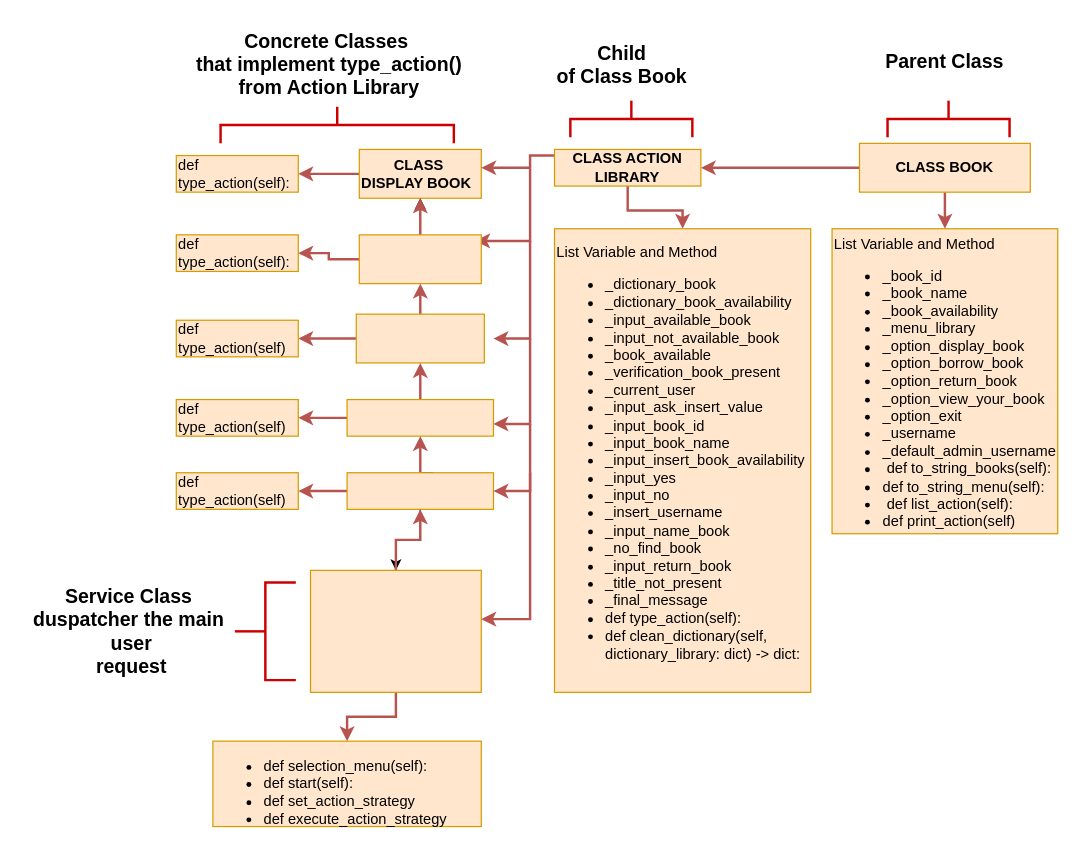
Image size: 1078x863. Some labels were removed from this diagram. The box of each missing label's shape, as (x1, y1, x2, y2) in pixels:
CLASS BORROW_BOOK: (358, 234, 481, 284)
CLASS EXIT_BOOK: (346, 472, 493, 509)
CLASS RETURN_BOOK: (355, 313, 484, 363)
CLASS SERVICE ACTION LIBRARY: (309, 569, 481, 692)
CLASS_VIEW_BOOK: (346, 398, 493, 436)
